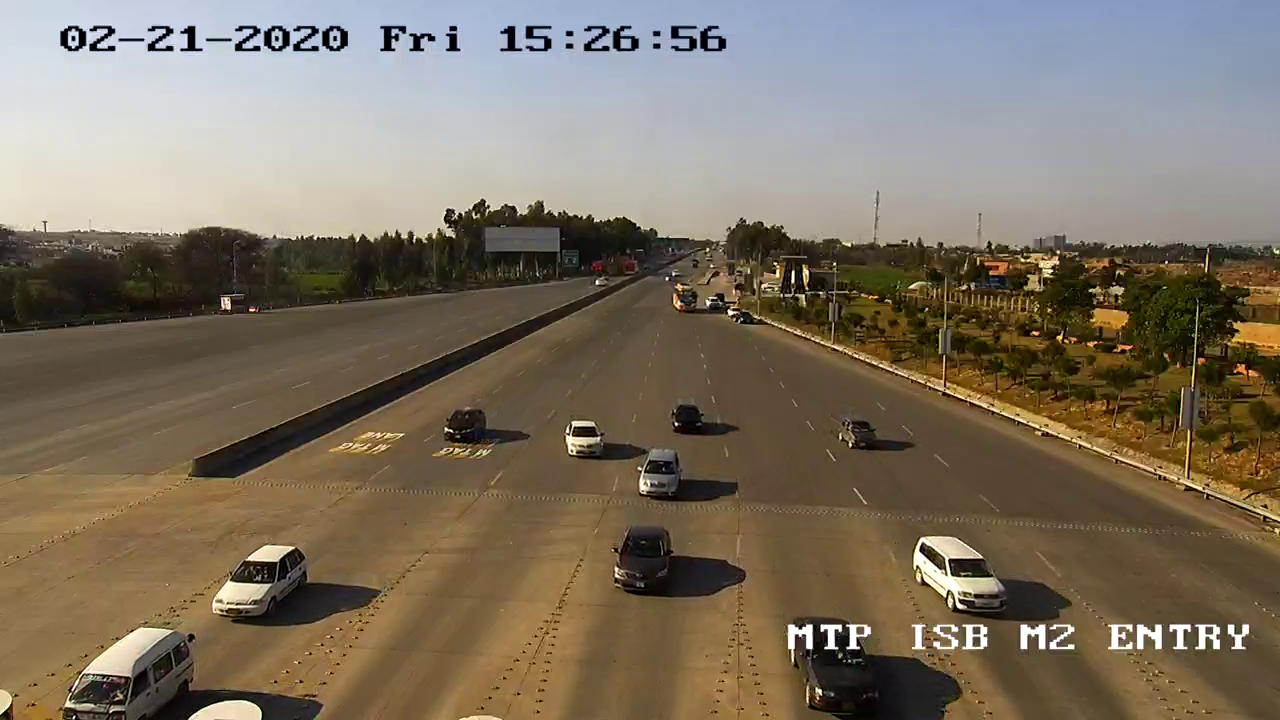f1: (904, 529, 1018, 623), (208, 539, 315, 630), (600, 515, 684, 601), (634, 449, 681, 500)
